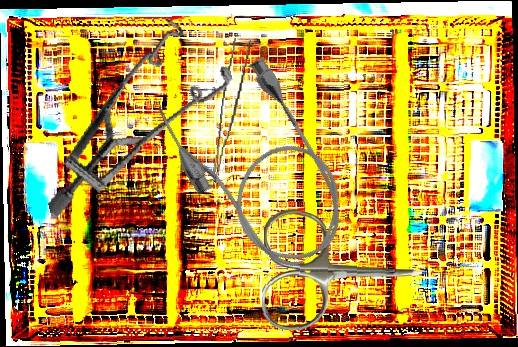Cannula: (148, 46, 367, 290)
Iris Scissors: (260, 208, 425, 335)
Speculum: (11, 7, 256, 220)
Tissue Forceps: (212, 37, 251, 185)
